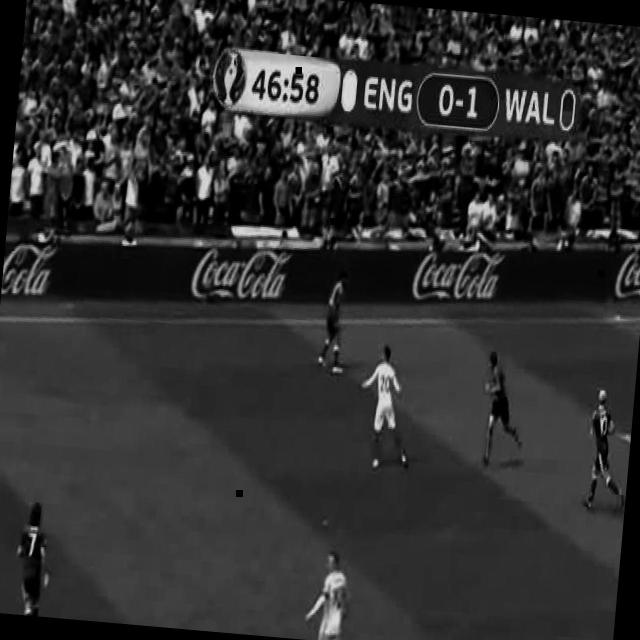player-white: (353, 342, 419, 472), (476, 351, 530, 469), (583, 387, 633, 513), (12, 499, 56, 617), (302, 546, 350, 640), (317, 271, 351, 375)
